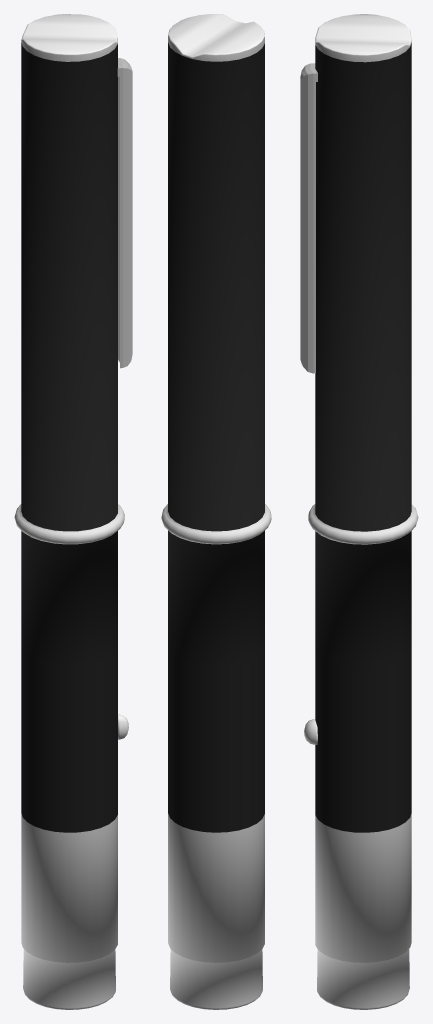
File: pen.fbx
3 views of the same model, side by side, from view 1: azimuth 90°, elevation 25°; view 2: azimuth 150°, elevation 25°; view 3: azimuth 270°, elevation 25° (orthographic).
Parts seen in each view (by area): view 1: Cylinder.003; view 2: Cylinder.003; view 3: Cylinder.003.
Boxes of the visible parts, left/top/right/bottom form: Cylinder.003: left=14, top=14, right=132, bottom=1009; Cylinder.003: left=161, top=14, right=271, bottom=1009; Cylinder.003: left=300, top=14, right=418, bottom=1009.
Size of the model in its own units: 56.69 by 543 by 60.68.
1 material, 1 textured.
